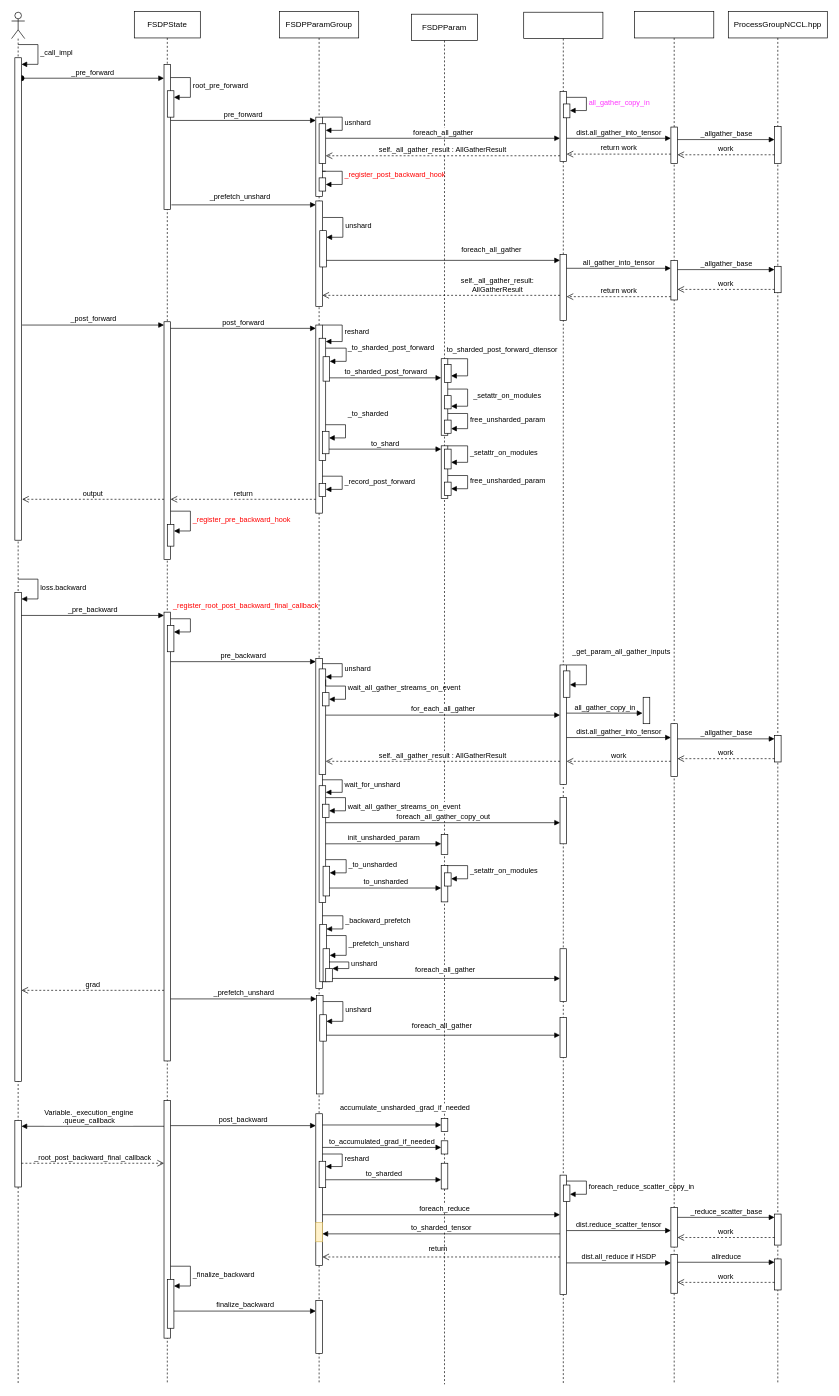
This 839x1396 diagram has some shape labels left out. The centre of each missing label's shape, as x and y in pixels:
_fsdp_collectives.py: point 563,698
distributed_c10d.py: point 674,697
